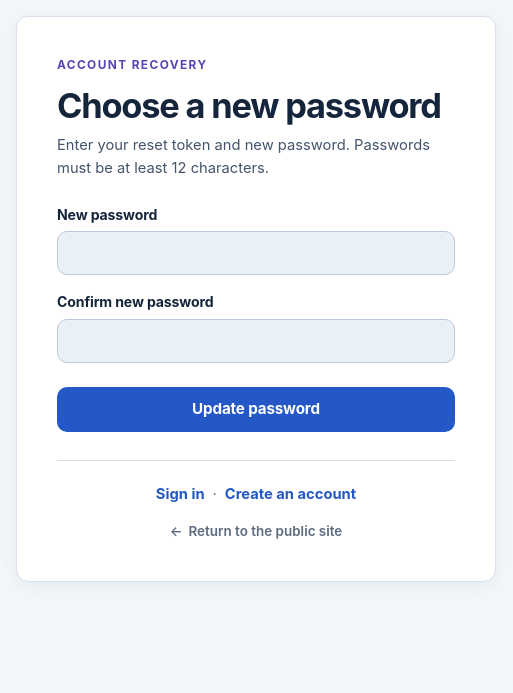
Test: Authentication pages › displays error when password reset fails due to invalid or expired token
Type "new-valid-password-123" into the password field labelled "New password" at (256, 253), box 57,231 -> 455,275
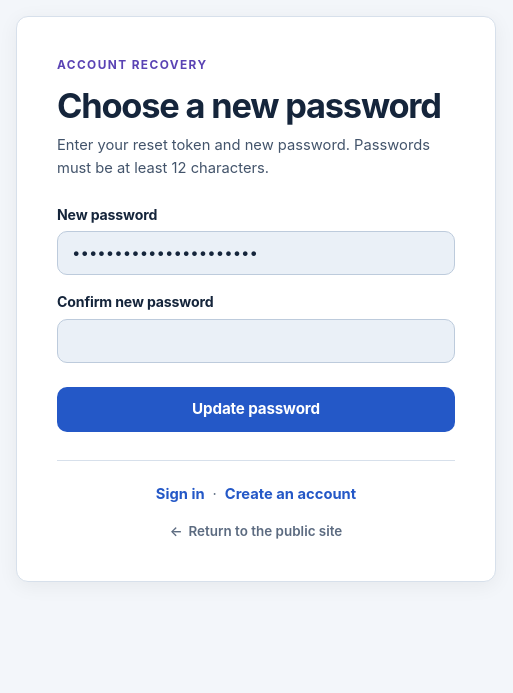
Type "new-valid-password-123" into the password field labelled "Confirm new password" at (256, 341), box 57,318 -> 455,363
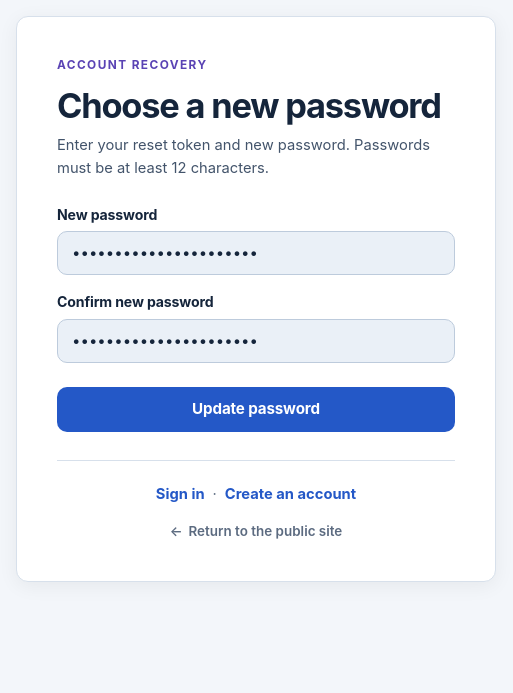
Click the button "Update password" at (256, 410), box 57,387 -> 455,432
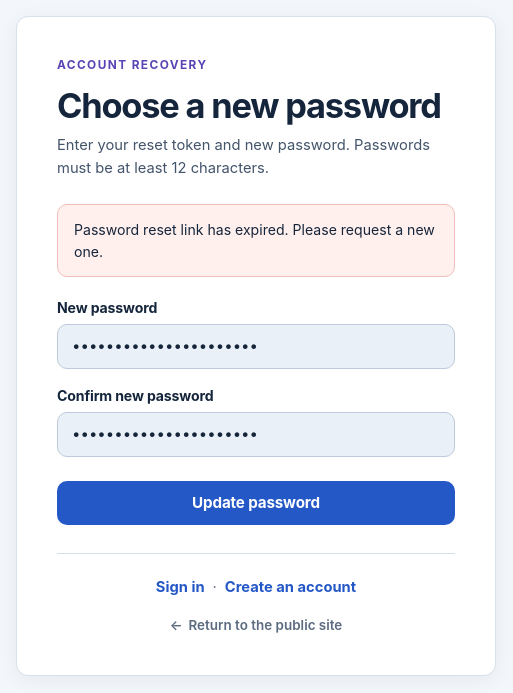
expect the message reads "Password reset link has expired. Please request a new one.": met, box 74,221 -> 435,260
